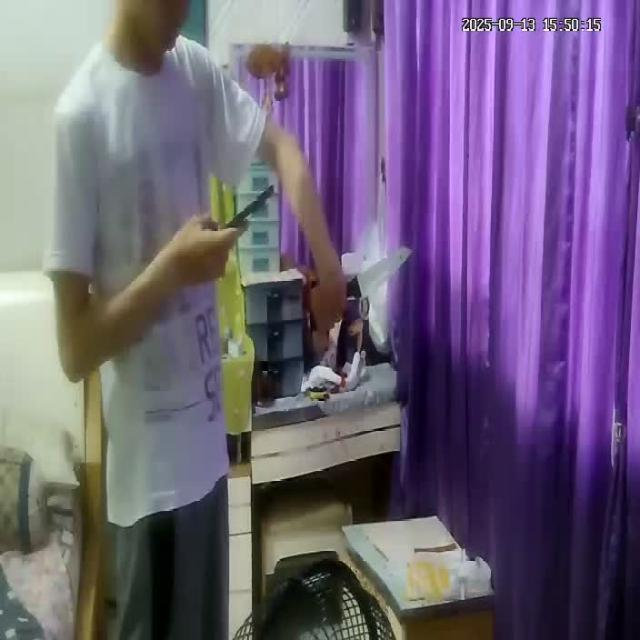senjata_tajam: (348, 240, 416, 304)
